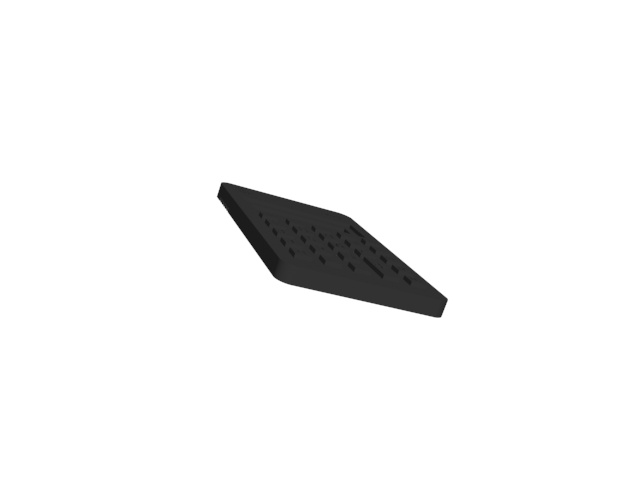calculator: (217, 177, 453, 320)
